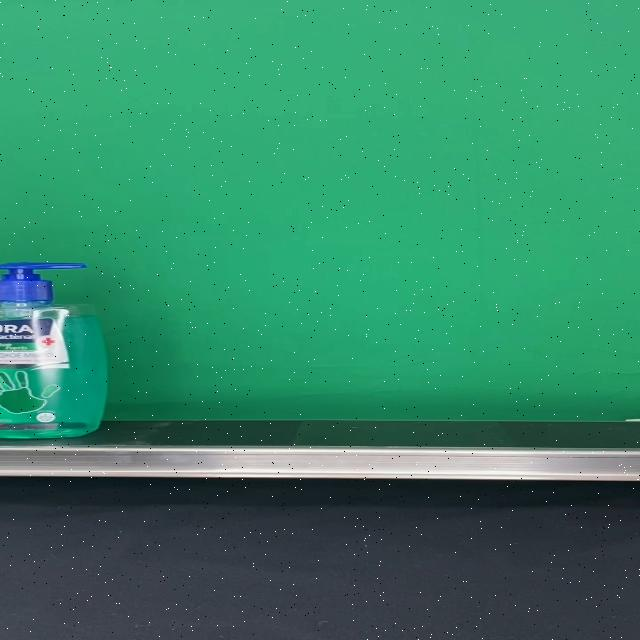Bottle: (0, 262, 107, 439)
Cap: (0, 262, 86, 302)
